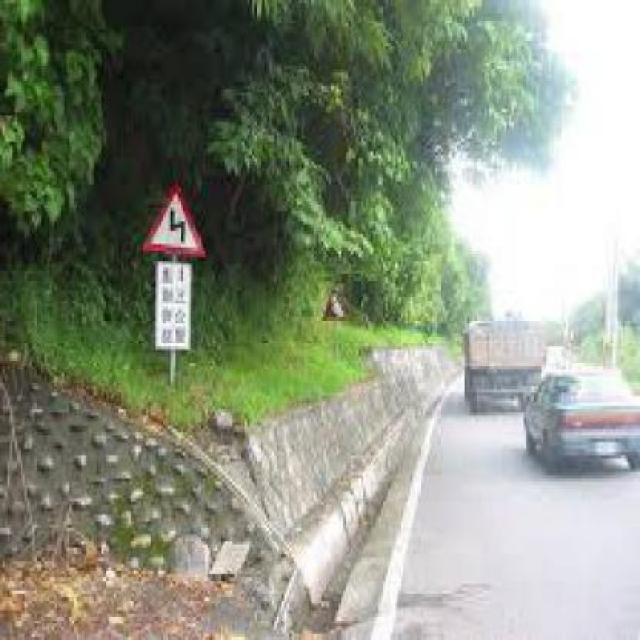warn_double_curve: (139, 178, 208, 264)
